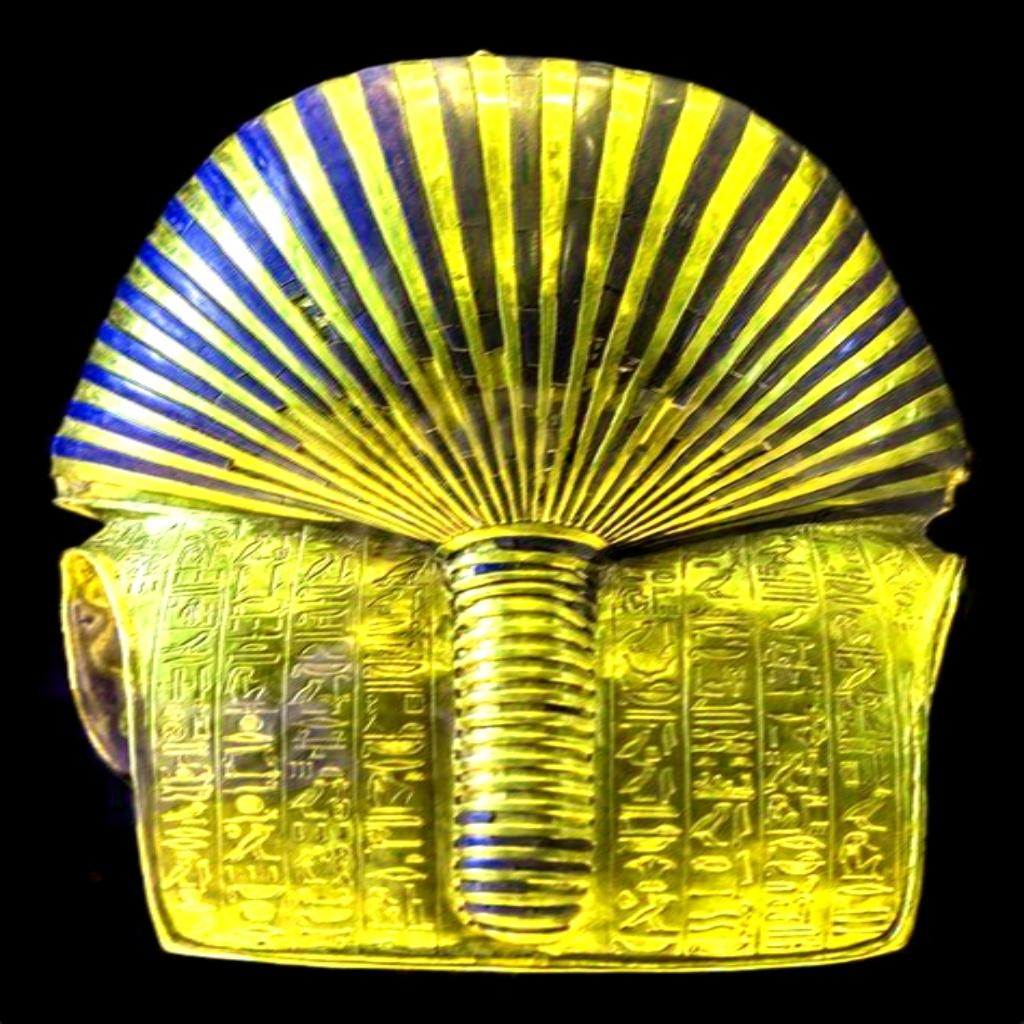Mask of Tutankhamun: (48, 49, 978, 974)
